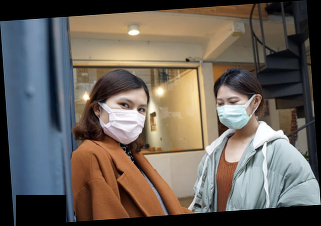with_mask: (102, 97, 149, 146), (215, 95, 253, 131)
